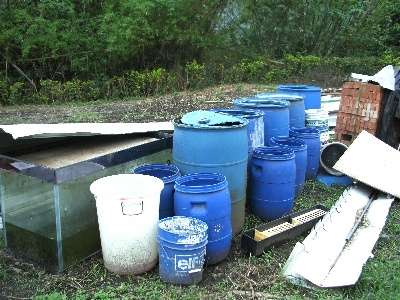aquarium: (1, 132, 174, 272)
box: (242, 204, 331, 255)
bucket: (173, 114, 247, 236), (89, 173, 164, 276), (173, 173, 232, 266), (246, 145, 295, 220), (156, 215, 208, 285), (270, 135, 308, 198), (295, 132, 321, 181), (303, 108, 331, 142)
